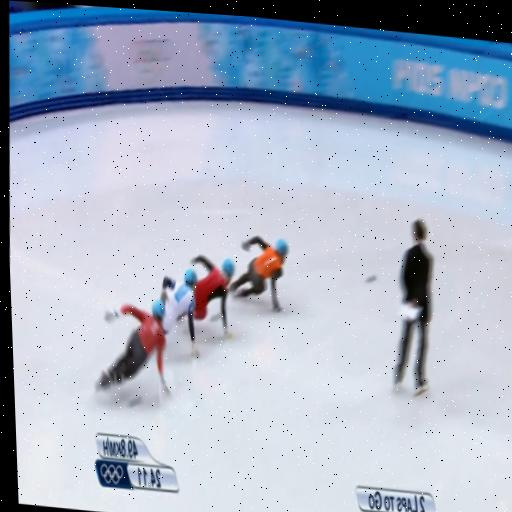Skater: (95, 301, 168, 393), (230, 236, 287, 311), (191, 256, 234, 337), (160, 270, 198, 357)
